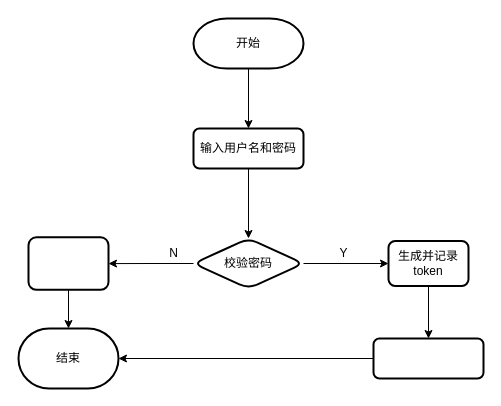
This 501x406 diagram has some shape labels left out. Each missing label, with the box of its shape:
登陆失败: (27, 236, 109, 290)
登陆成功: (372, 337, 484, 379)
